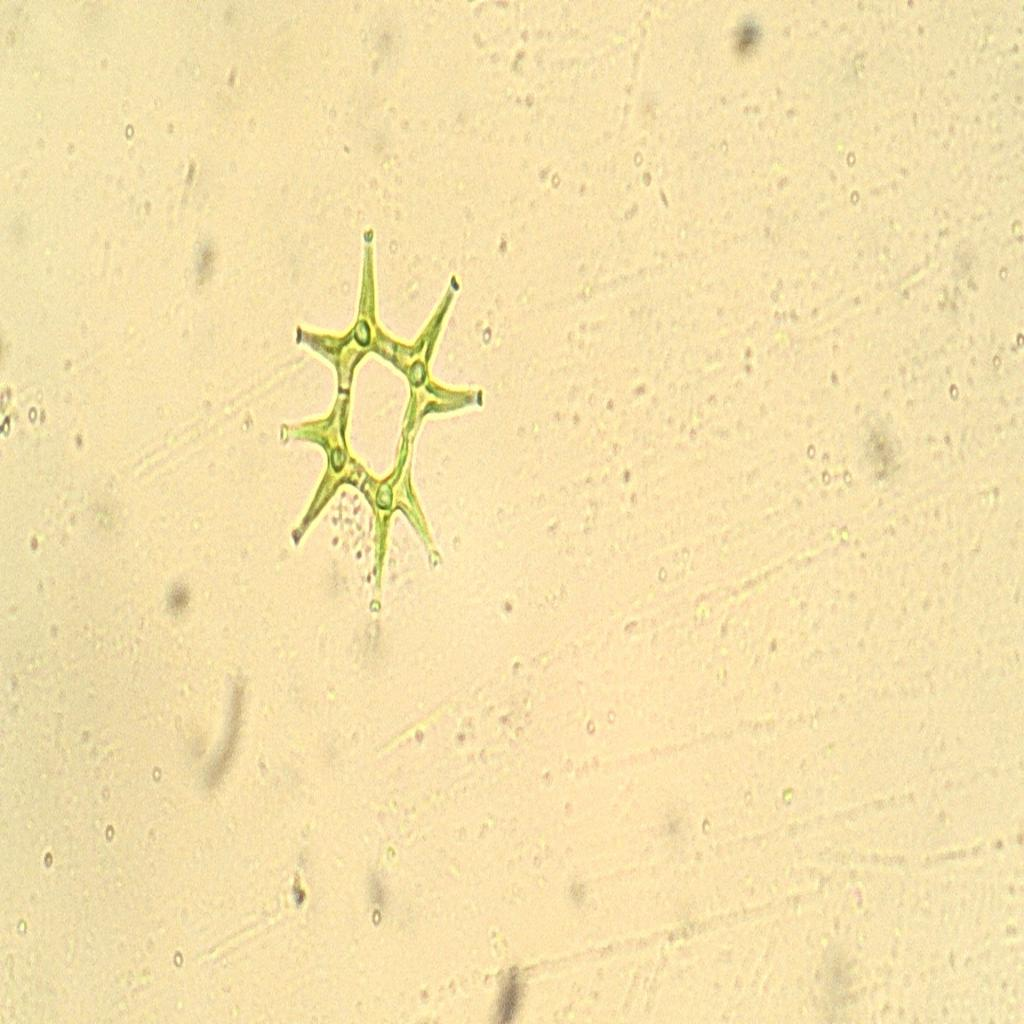Pediastrum_CO: (252, 212, 516, 632)
